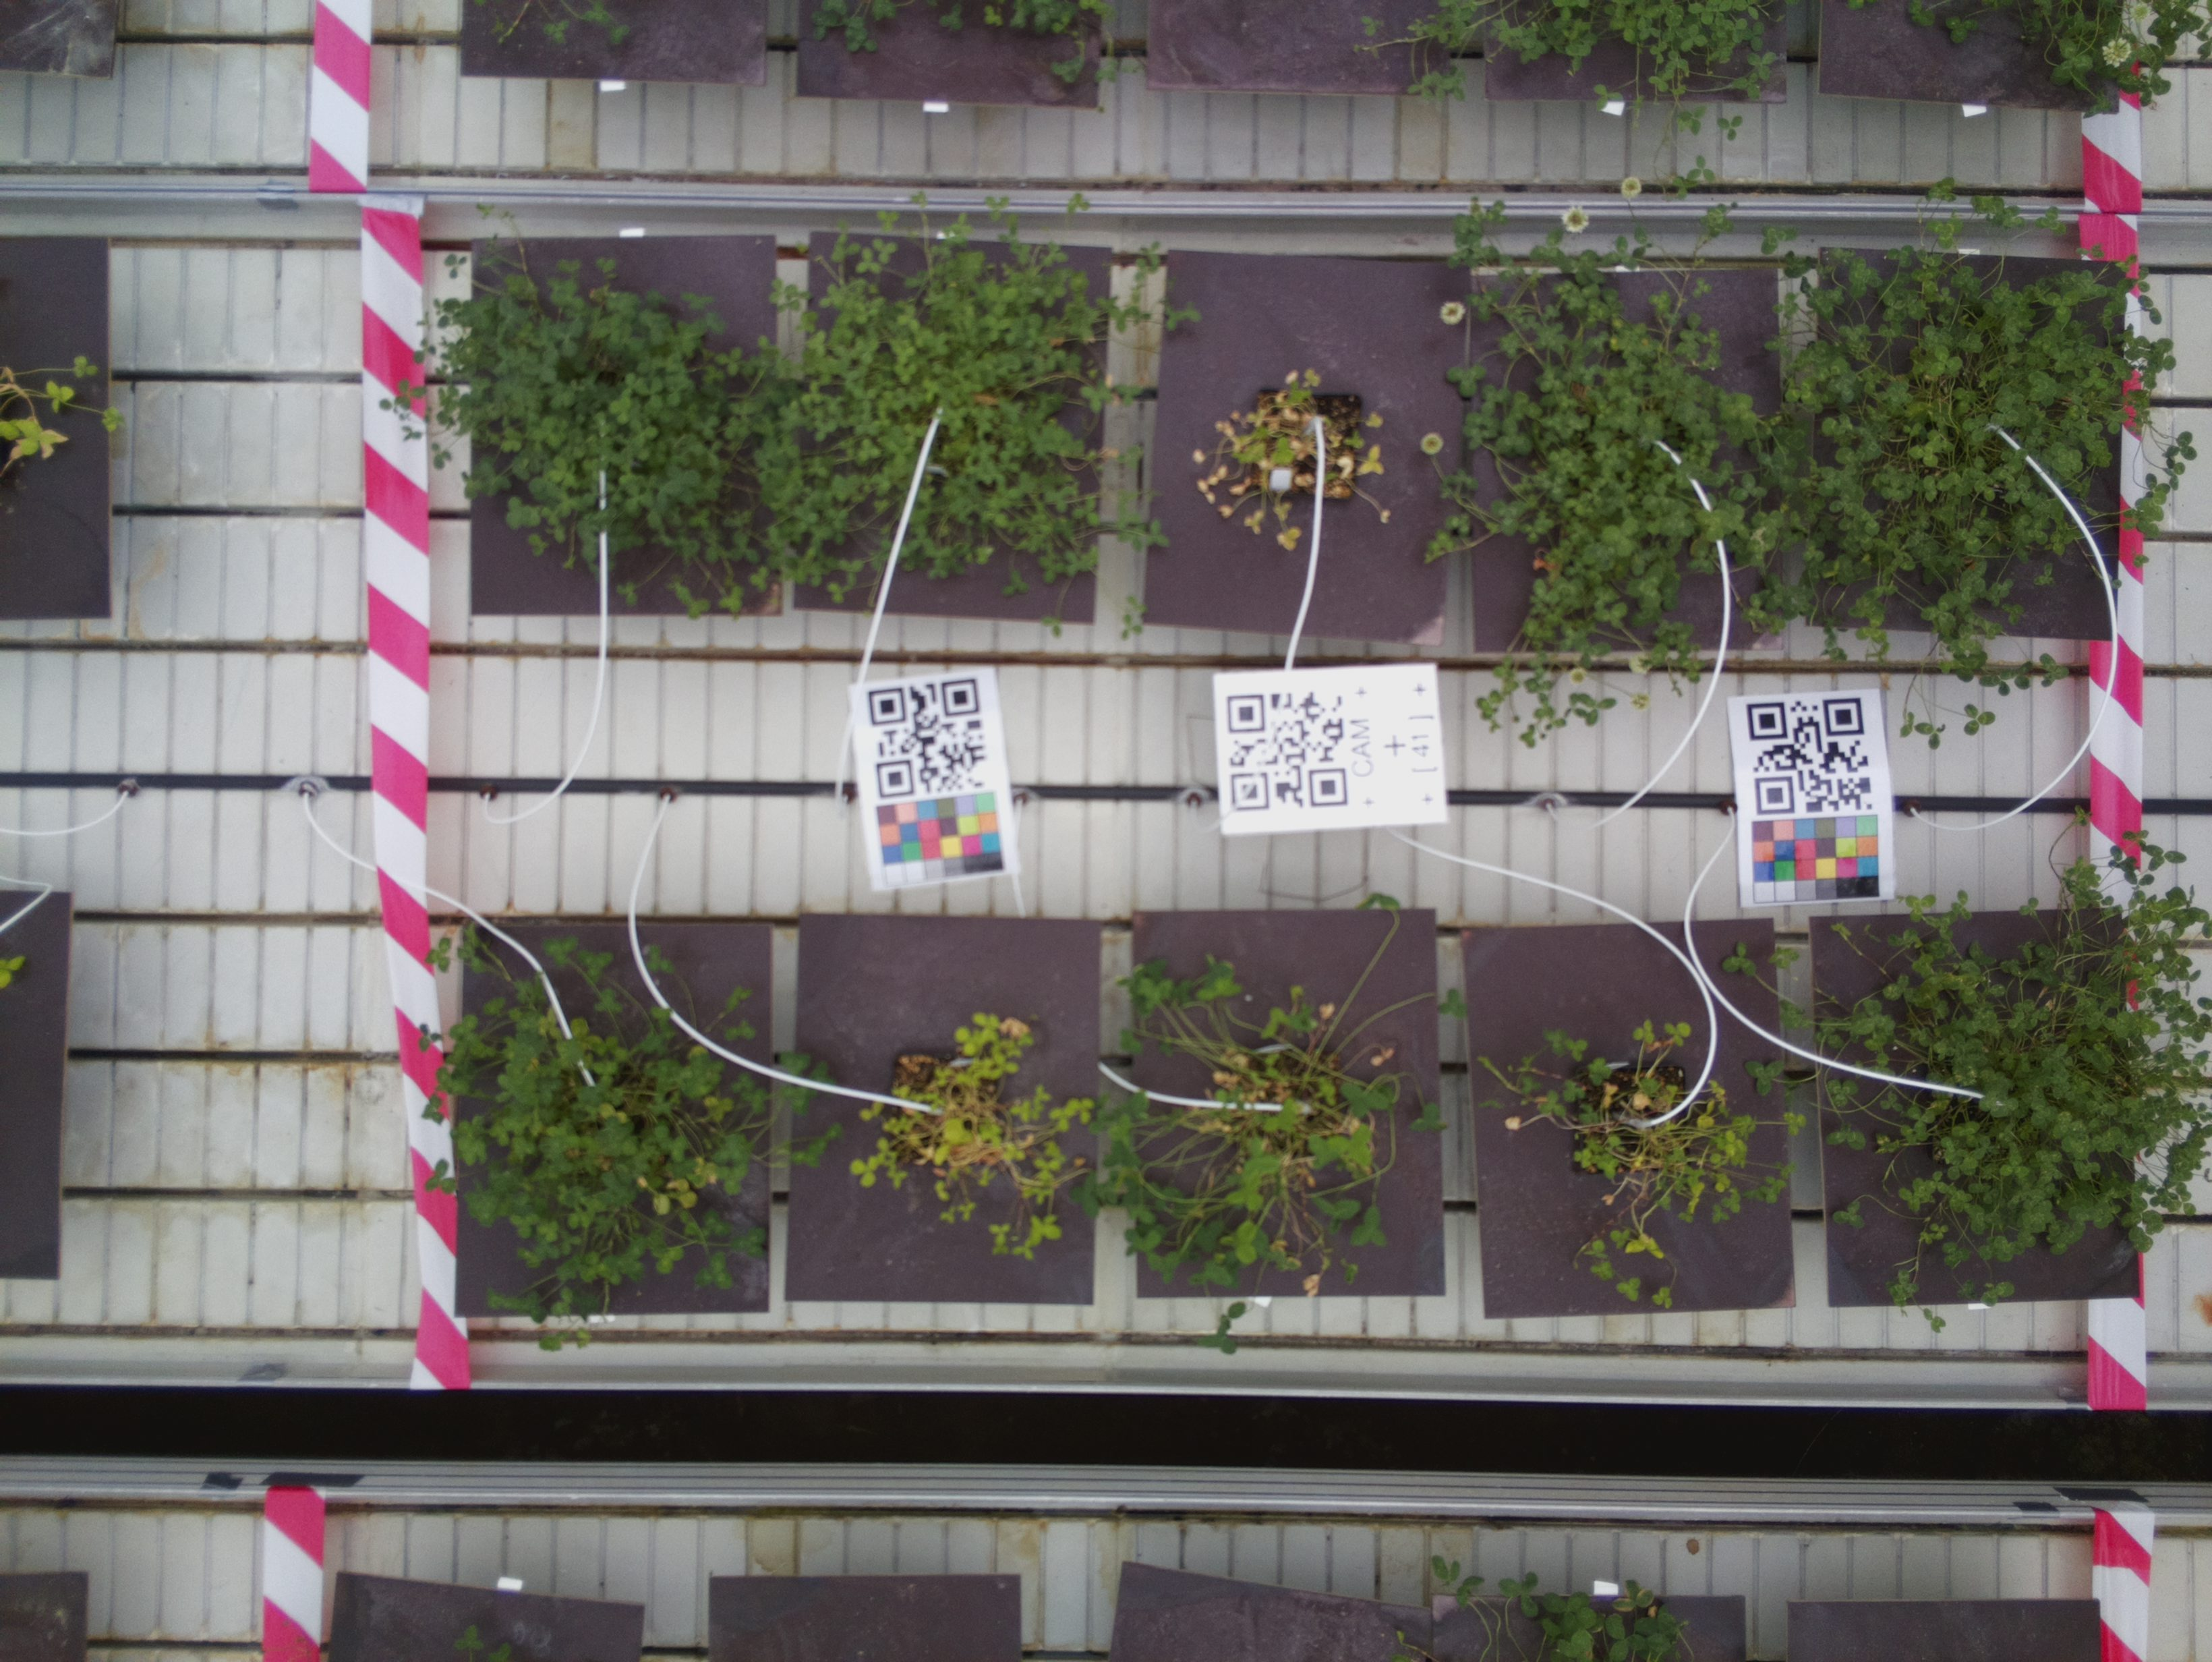POT: (1465, 925, 1798, 1313), (1810, 917, 2140, 1308), (1154, 246, 1461, 646), (1816, 243, 2125, 639), (1131, 908, 1446, 1297), (798, 236, 1110, 623), (464, 924, 777, 1311), (468, 236, 784, 616), (1468, 274, 1783, 653), (796, 917, 1098, 1308)
QRCODE: (1210, 669, 1456, 831)
QRCOLOR: (848, 665, 1027, 890), (1720, 693, 1901, 908)
